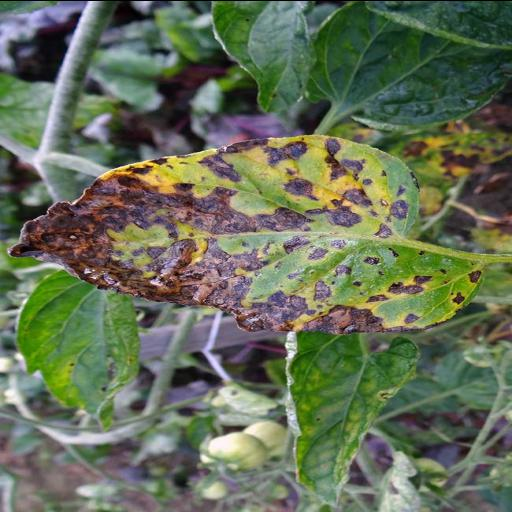disease_tomato: (4, 132, 483, 333)
